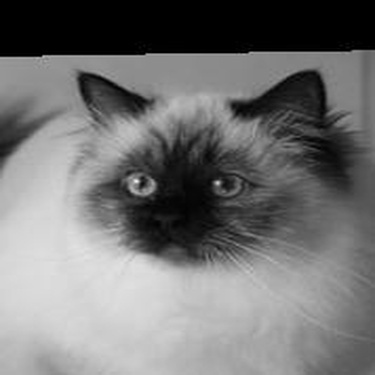cat: (6, 69, 368, 369)
